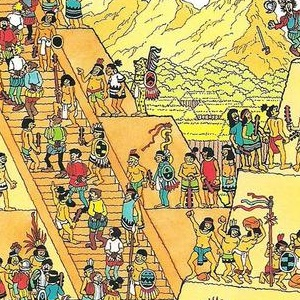Odlaw: (0, 105, 70, 217)
Wizard Whitebeard: (82, 89, 218, 211)
